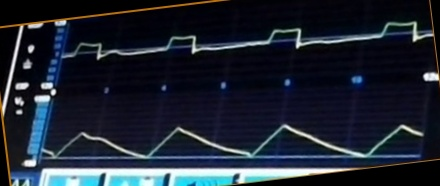Premature_cycling Flow: (67, 20, 434, 69)
Premature_cycling Volume: (44, 119, 424, 163)
